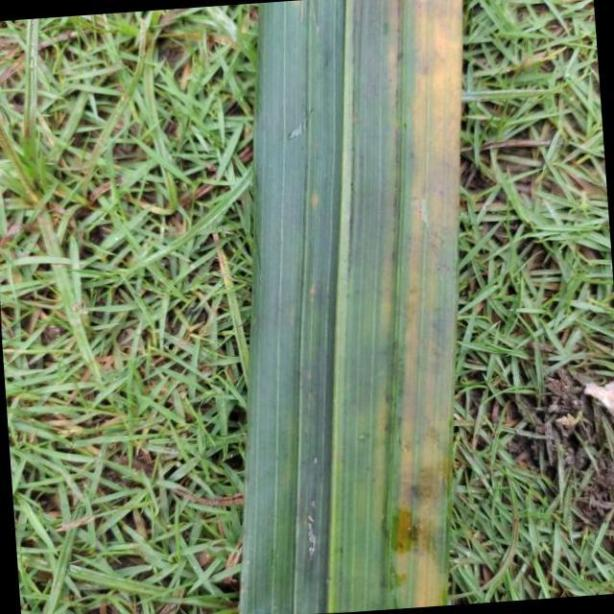Megnesium: (243, 0, 459, 614)
